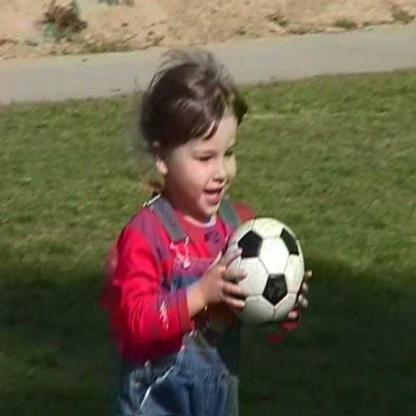ball: (223, 215, 304, 325)
